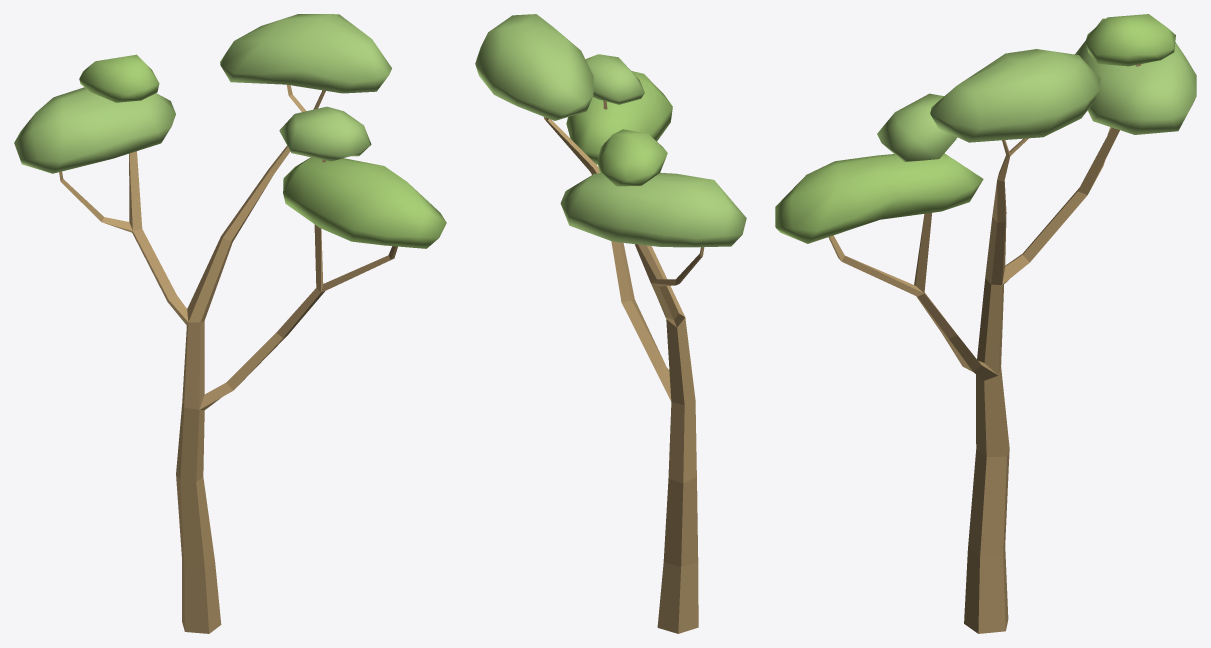
The model's file is tree-example.fbx.
3 renders of one model, left to right at view 1: azimuth 30°, elevation 25°; view 2: azimuth 150°, elevation 25°; view 3: azimuth 270°, elevation 25°, orthographic. The views are drawn at different scales.
Visible parts, largest first — view 1: Acacia_Tree_l_05; view 2: Acacia_Tree_l_05; view 3: Acacia_Tree_l_05.
Part boxes in pixels (box(x1,y1,x2,y2)): Acacia_Tree_l_05: box(14, 14, 446, 633); Acacia_Tree_l_05: box(475, 14, 746, 633); Acacia_Tree_l_05: box(775, 14, 1196, 633).
Size of the model in its own units: 645 by 606 by 1079.
1 material, 1 textured.
